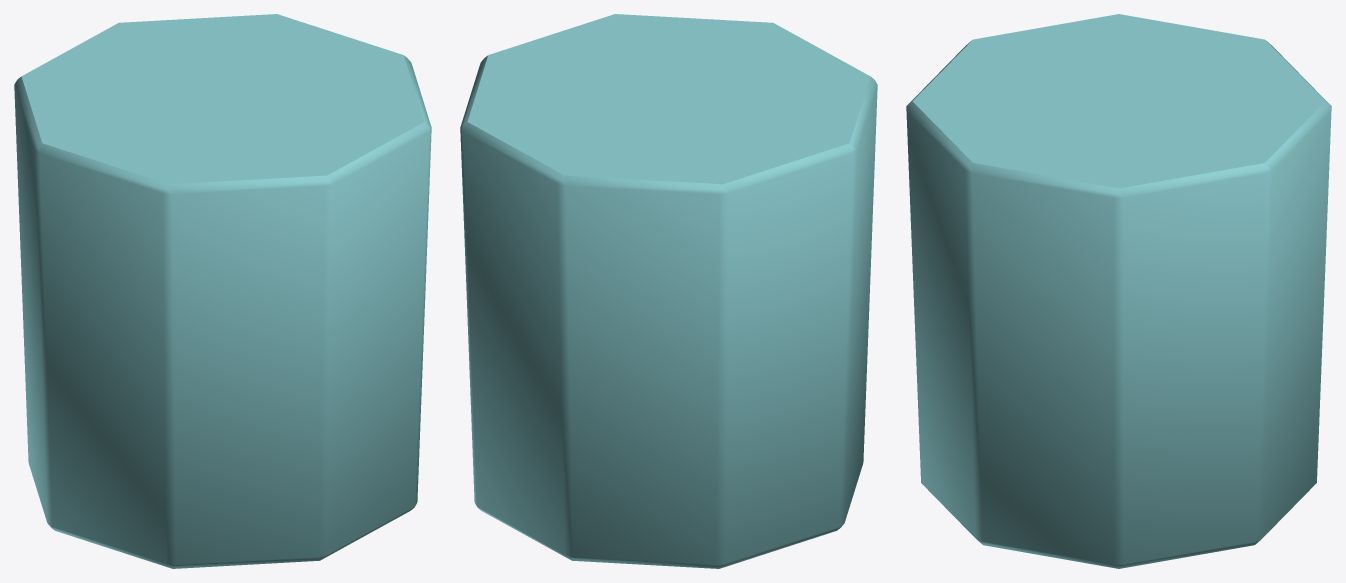
Rendered from glace_plateform_01.fbx.
3 renders of one model, left to right at view 1: azimuth 30°, elevation 25°; view 2: azimuth 150°, elevation 25°; view 3: azimuth 270°, elevation 25°, orthographic.
Parts seen in each view (by area): view 1: Sphere005; view 2: Sphere005; view 3: Sphere005.
Boxes of the visible parts, x1,y1,x2,y2 form: Sphere005: (14, 14, 431, 568); Sphere005: (460, 14, 877, 568); Sphere005: (906, 14, 1331, 568).
Size of the model in its own units: 44.6 by 44.76 by 44.6.
